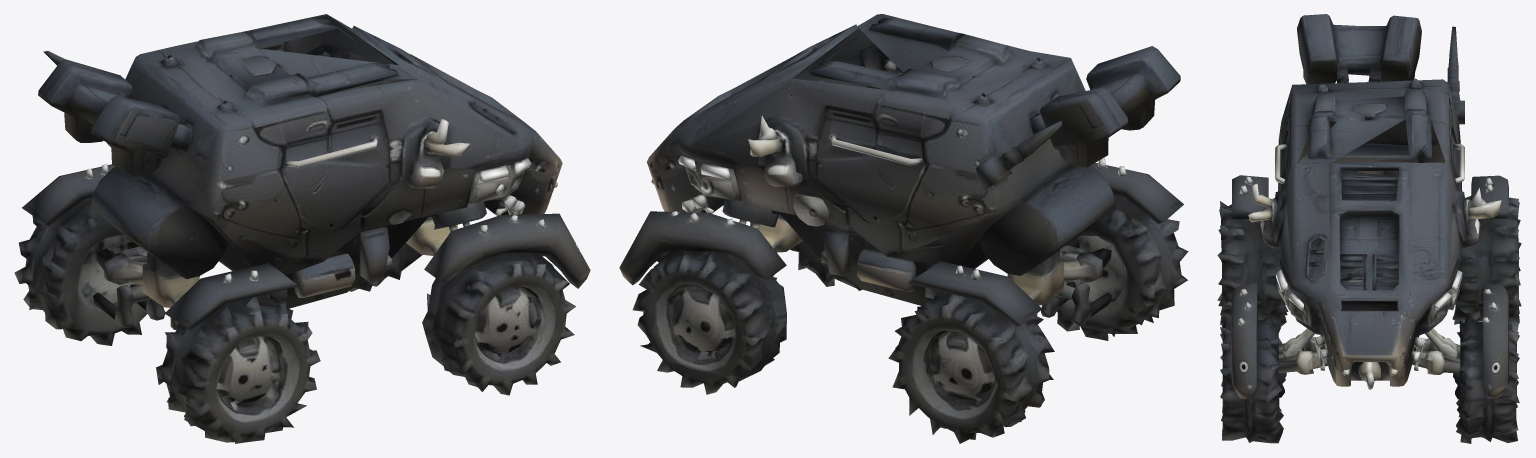
The model's file is chassis-raider.glb.
The picture shows the model from 3 angles, left to right: view 1: azimuth 30°, elevation 25°; view 2: azimuth 150°, elevation 25°; view 3: azimuth 270°, elevation 25°; orthographic projection. The views are drawn at different scales.
Parts seen in each view (by area): view 1: tripo_node_5a92e8d9-ec3d-407e-bc9a-37662fef099f; view 2: tripo_node_5a92e8d9-ec3d-407e-bc9a-37662fef099f; view 3: tripo_node_5a92e8d9-ec3d-407e-bc9a-37662fef099f.
Boxes of the visible parts, x1,y1,x2,y2 form: tripo_node_5a92e8d9-ec3d-407e-bc9a-37662fef099f: [14, 14, 590, 443]; tripo_node_5a92e8d9-ec3d-407e-bc9a-37662fef099f: [619, 14, 1188, 443]; tripo_node_5a92e8d9-ec3d-407e-bc9a-37662fef099f: [1217, 14, 1521, 443].
Size of the model in its own units: 0.998 by 0.6699 by 0.6504.
Materials: 1 (1 with a texture image).
